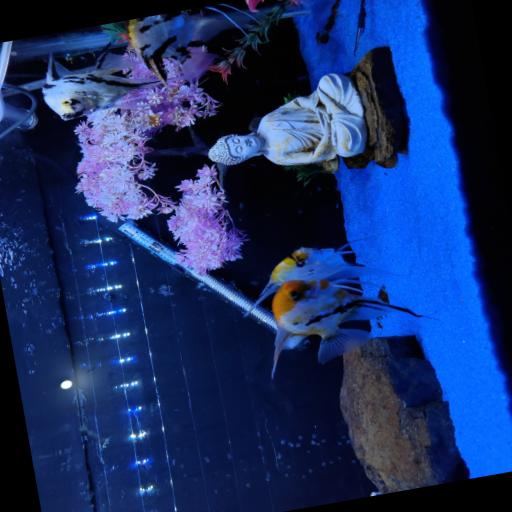Fish: (272, 278, 422, 375), (244, 239, 392, 316), (42, 51, 162, 119), (42, 51, 161, 119), (129, 11, 235, 84)
